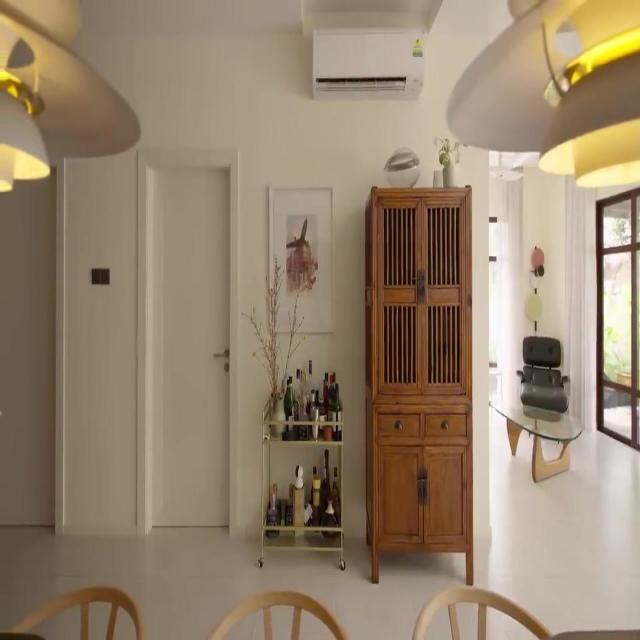door: (142, 155, 231, 530)
obstacle: (364, 185, 474, 586), (257, 393, 345, 571), (407, 584, 555, 640), (488, 398, 582, 483), (0, 587, 142, 640), (206, 589, 348, 639), (516, 335, 570, 421)
